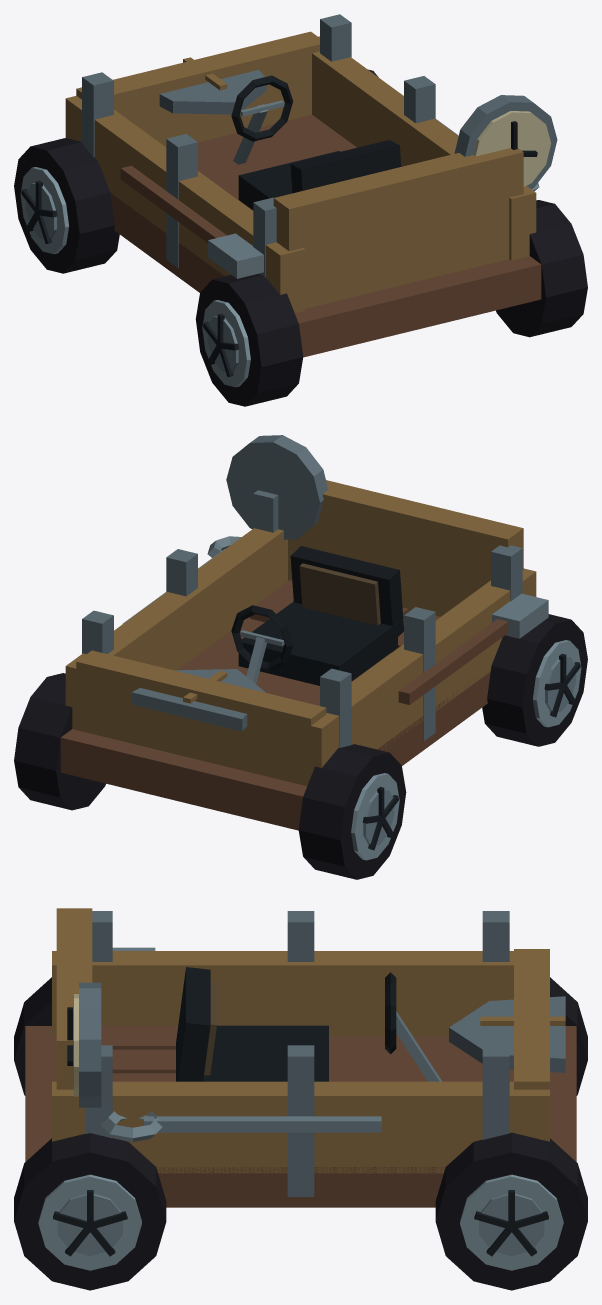
File: kart.glb
3 views of the same model, one above another, from view 1: azimuth 30°, elevation 25°; view 2: azimuth 150°, elevation 25°; view 3: azimuth 270°, elevation 25° (orthographic). The views are drawn at different scales.
Parts seen in each view (by area): view 1: identity-wagon-wagon-timber-coach, wheel-rear-left, wheel-front-left, identity-wagon-driver-cockpit, wheel-rear-right, identity-wagon-motif-clock, identity-wagon-motif-tools, identity-wagon-motif-shield; view 2: identity-wagon-wagon-timber-coach, identity-wagon-driver-cockpit, wheel-front-left, wheel-rear-left, identity-wagon-motif-clock, wheel-front-right, identity-wagon-motif-tools, identity-wagon-motif-shield; view 3: identity-wagon-wagon-timber-coach, wheel-front-right, wheel-rear-right, identity-wagon-driver-cockpit, identity-wagon-motif-tools, identity-wagon-motif-shield, identity-wagon-motif-clock, wheel-rear-left, wheel-front-left.
Part boxes in pixels (x1,y1,x2,y2): identity-wagon-wagon-timber-coach: [65, 14, 541, 357]; wheel-rear-left: [195, 274, 303, 406]; wheel-front-left: [14, 138, 119, 273]; identity-wagon-driver-cockpit: [231, 75, 401, 210]; wheel-rear-right: [496, 200, 587, 337]; identity-wagon-motif-clock: [454, 95, 557, 188]; identity-wagon-motif-tools: [120, 119, 539, 278]; identity-wagon-motif-shield: [159, 57, 266, 114]; identity-wagon-wagon-timber-coach: [60, 480, 536, 830]; identity-wagon-driver-cockpit: [231, 546, 403, 685]; wheel-front-left: [298, 744, 406, 879]; wheel-rear-left: [482, 614, 587, 746]; identity-wagon-motif-clock: [226, 435, 328, 539]; wheel-front-right: [14, 673, 105, 810]; identity-wagon-motif-tools: [123, 536, 548, 704]; identity-wagon-motif-shield: [131, 669, 265, 731]; identity-wagon-wagon-timber-coach: [25, 908, 576, 1207]; wheel-front-right: [435, 1132, 587, 1290]; wheel-rear-right: [14, 1133, 166, 1290]; identity-wagon-driver-cockpit: [176, 967, 442, 1081]; identity-wagon-motif-tools: [100, 947, 381, 1141]; identity-wagon-motif-shield: [449, 996, 565, 1072]; identity-wagon-motif-clock: [67, 982, 101, 1107]; wheel-rear-left: [14, 977, 51, 1095]; wheel-front-left: [550, 977, 587, 1095].
Size of the model in its own units: 2.07 by 1.35 by 2.56.
